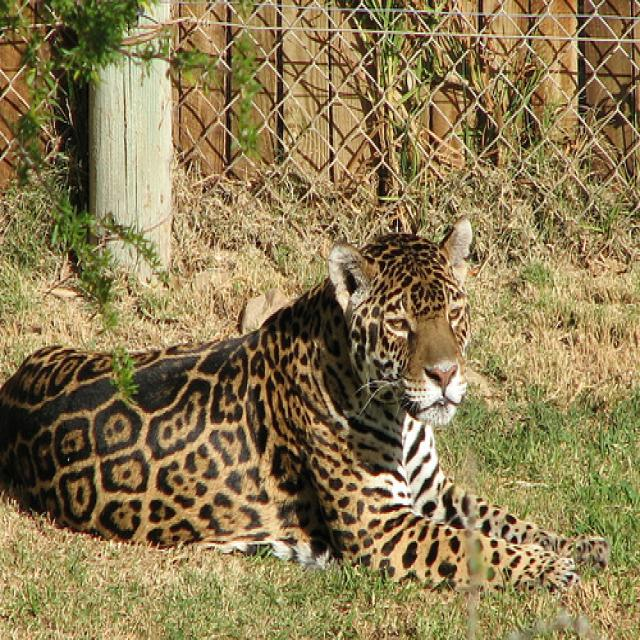Leopard: (0, 212, 613, 588)
